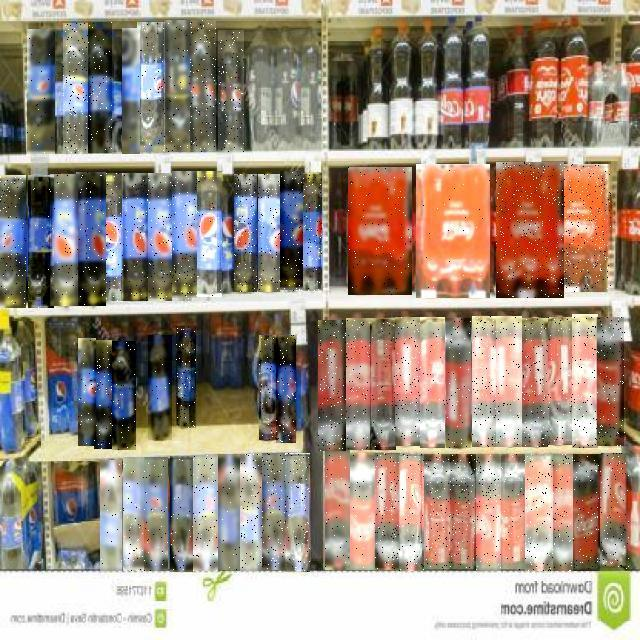Drinks: (416, 164, 490, 298), (496, 162, 564, 298), (348, 167, 412, 295), (564, 165, 612, 293), (76, 172, 106, 306), (189, 20, 217, 152), (50, 174, 78, 306), (319, 320, 347, 451), (137, 22, 165, 152), (598, 317, 626, 446), (27, 30, 55, 156), (573, 314, 599, 448), (28, 175, 54, 308), (0, 175, 26, 308), (164, 20, 190, 152), (370, 318, 396, 450), (496, 316, 522, 447), (523, 318, 549, 447), (196, 172, 222, 300), (123, 173, 149, 301), (346, 318, 371, 450), (525, 454, 553, 571), (574, 454, 602, 571), (63, 23, 88, 154), (420, 317, 445, 448), (446, 318, 471, 448), (602, 454, 630, 570), (395, 317, 420, 446), (172, 172, 197, 300), (218, 30, 244, 152), (88, 22, 112, 153), (472, 316, 496, 447), (148, 173, 172, 301), (548, 317, 572, 445), (350, 453, 376, 570), (450, 454, 476, 571), (500, 455, 526, 571), (325, 450, 350, 570), (285, 453, 310, 572), (375, 453, 400, 570), (399, 454, 424, 571), (426, 453, 451, 570), (476, 454, 501, 571), (193, 455, 218, 571), (262, 453, 286, 570), (280, 172, 303, 292), (144, 457, 168, 571), (234, 174, 257, 292), (170, 456, 193, 572), (112, 341, 136, 450), (258, 174, 280, 292), (103, 173, 123, 302), (240, 454, 262, 571), (218, 455, 240, 571), (148, 335, 172, 440), (124, 458, 146, 572), (100, 460, 122, 571), (303, 173, 323, 292), (553, 454, 573, 571), (122, 28, 140, 154), (276, 335, 296, 443), (176, 327, 196, 429), (259, 335, 278, 440), (94, 340, 112, 449), (78, 339, 96, 447)
